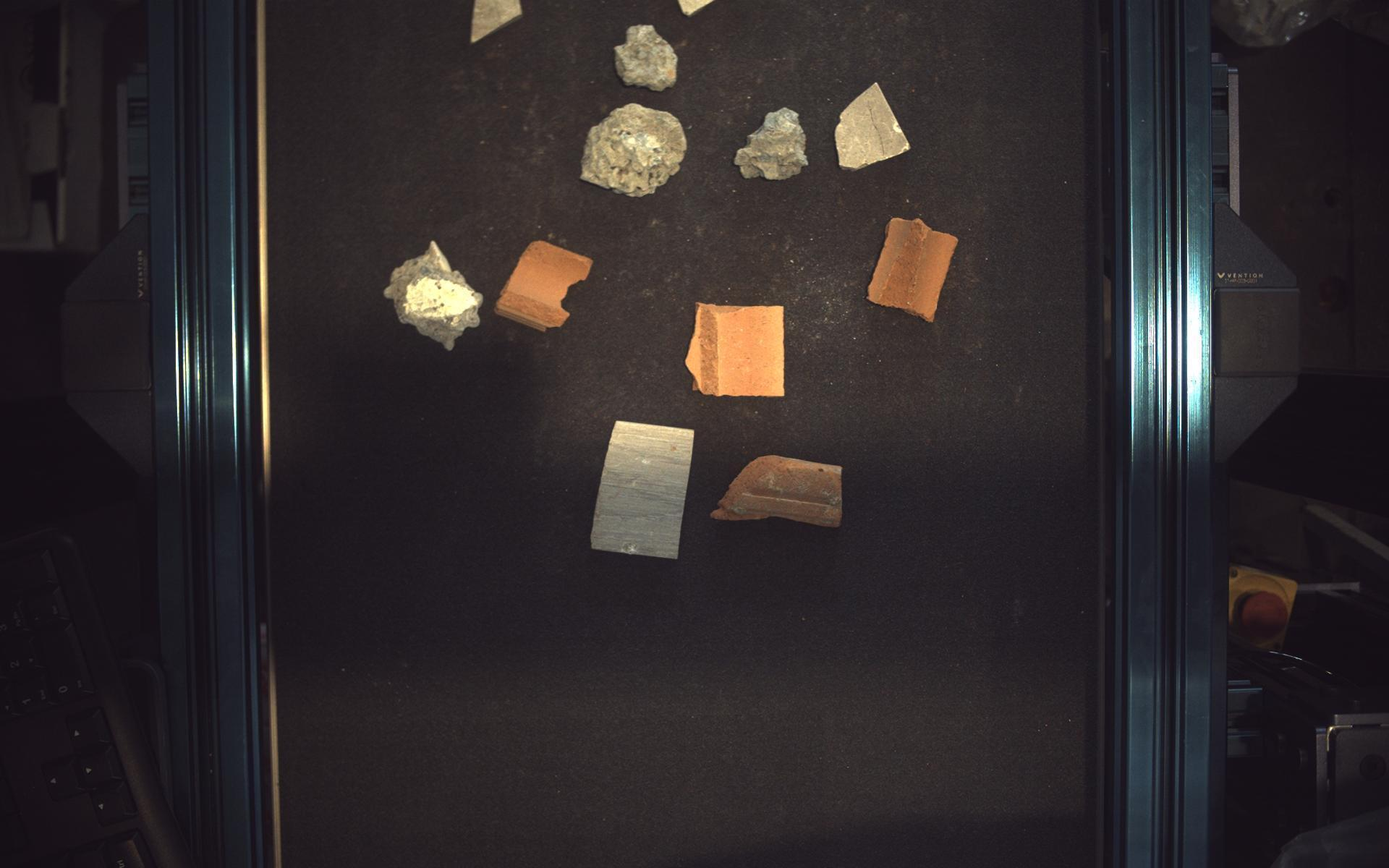brick: (712, 455, 844, 528), (870, 218, 960, 321), (687, 303, 786, 396), (495, 240, 593, 331)
concrete: (384, 240, 483, 350), (581, 102, 688, 196), (736, 106, 810, 179), (615, 25, 678, 90)
tile: (592, 422, 694, 559), (836, 81, 912, 169), (471, 1, 522, 41)
